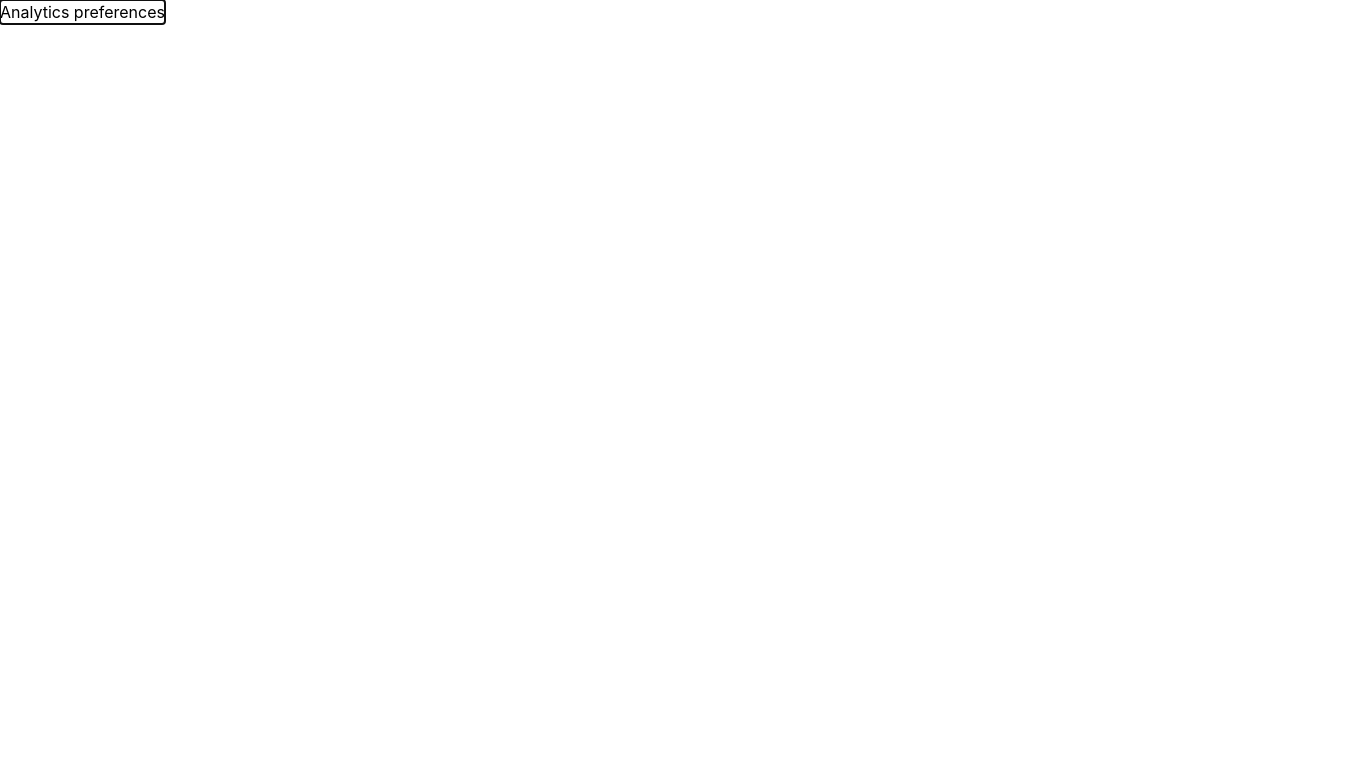
Test case: Analytics consent modal › does not reopen a stored true choice; preferences reopens it and restores background styles after closing
Step 1. Click the button "Analytics preferences" → (82,12), box [0,0,165,24]
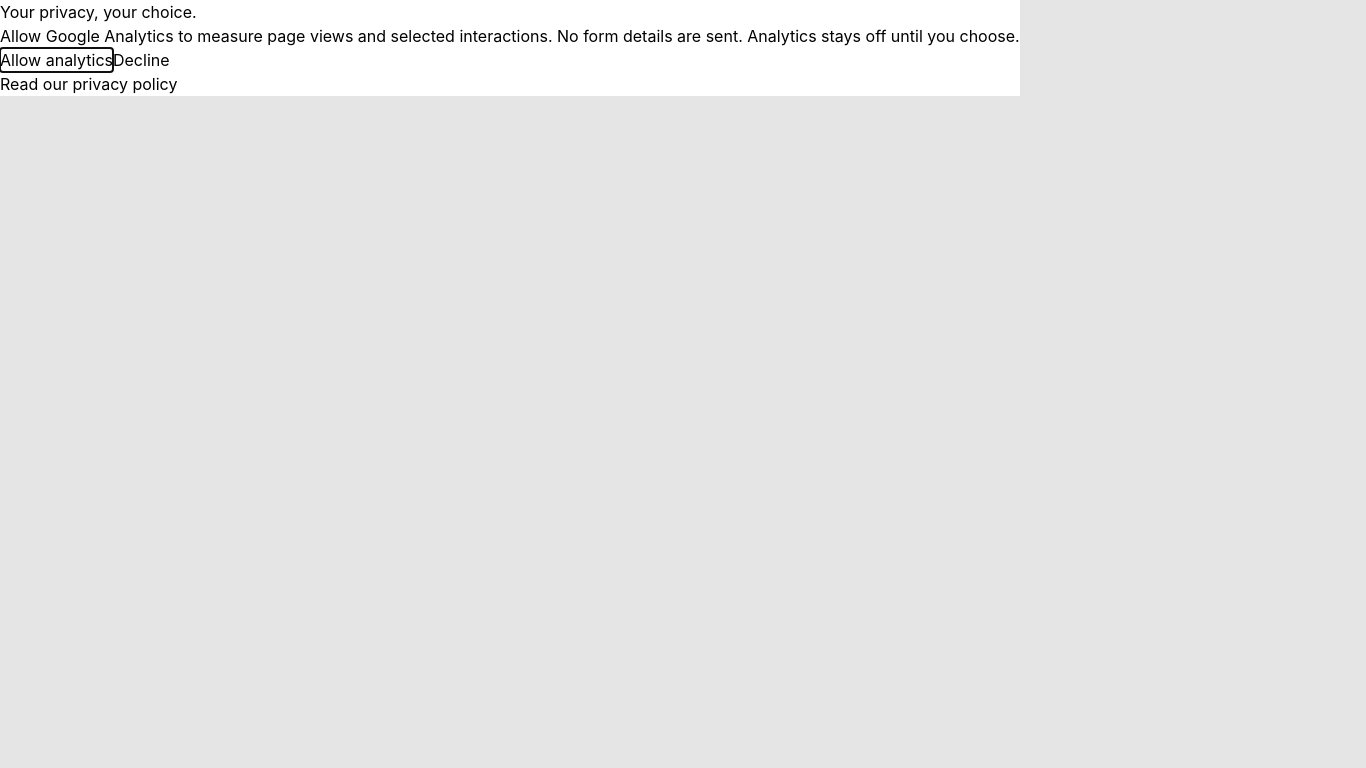
Expected: the dialog is shown, [0,0,1020,96]
Step 2. Click the button "Decline" → (141,60), box [113,48,170,72]
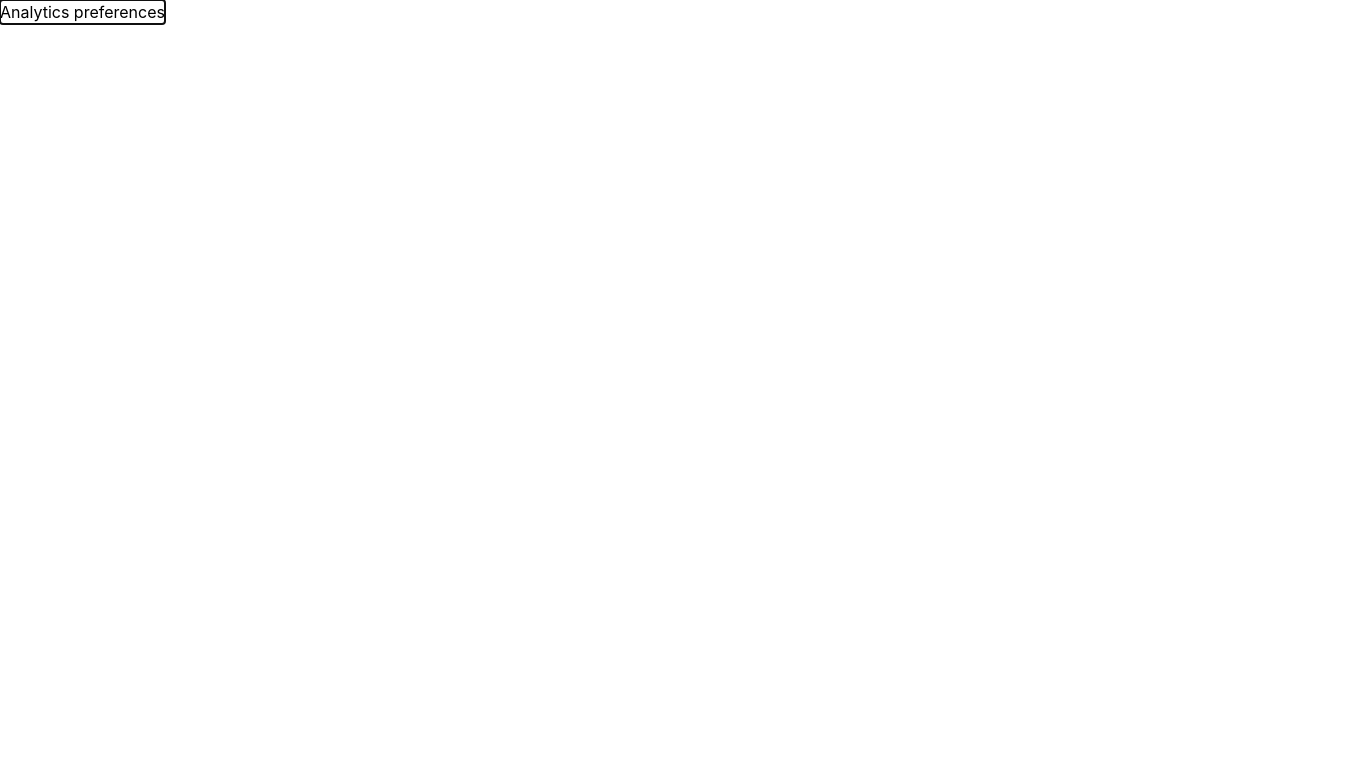
Expected: the dialog is gone
